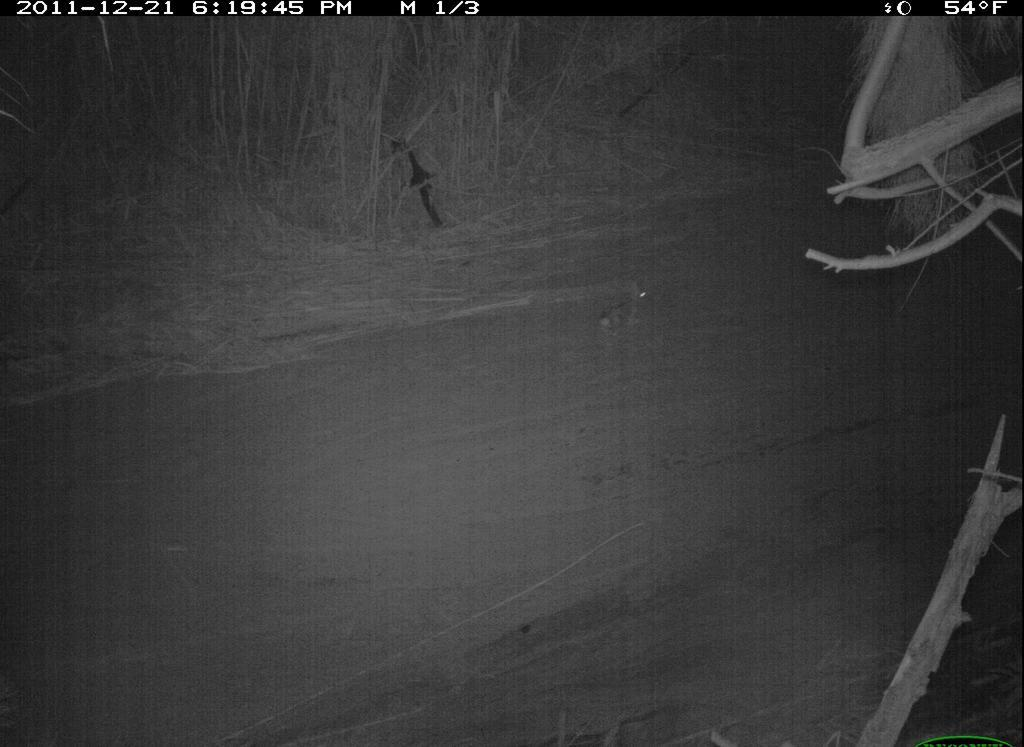rabbit: (591, 260, 662, 346)
